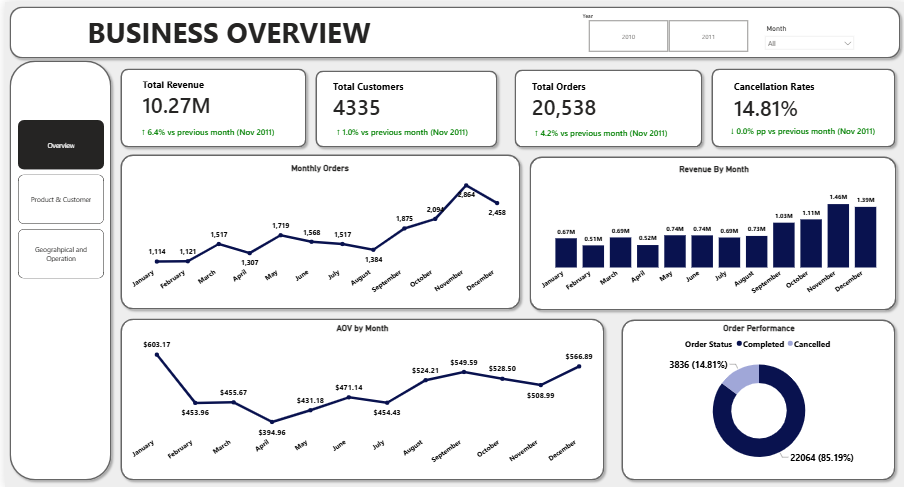

What the dashboard file says about the page in this screenshot:
{"tool":"powerbi","page":{"name":"Overview","canvas":[1800,970],"ordinal":0},"visuals":[{"type":"shape","box":[1404,124,386,176],"z":0},{"type":"shape","box":[1010,126,394,174],"z":1000},{"type":"shape","box":[612,128,382,172],"z":2000},{"type":"shape","box":[0,108,222,858],"z":3000},{"type":"shape","box":[222,124,390,176],"z":4000},{"type":"shape","box":[1040,300,752,326],"z":5000},{"type":"cardVisual","fields":{"Data":["Table1.Total Revenue"]},"box":[246,142,286,100],"z":6000},{"type":"shape","box":[0,0,1800,122],"z":7000},{"type":"cardVisual","fields":{"Data":["Table1.Total Customers"]},"box":[630,142,286,108],"z":8000},{"type":"cardVisual","fields":{"Data":["Table1.Total Orders"]},"box":[1028,140,298,112],"z":9000},{"type":"cardVisual","fields":{"Data":["Table1.Cancellation Rates"]},"box":[1432,142,276,110],"z":10000},{"type":"columnChart","title":"Revenue By Month","fields":{"Category":["Table1.Month Name"],"Y":["Table1.Total Revenue"]},"box":[1066,324,704,280],"z":11000},{"type":"shape","box":[222,624,986,342],"z":12000},{"type":"shape","box":[1224,626,566,340],"z":13000},{"type":"shape","box":[222,296,818,328],"z":14000},{"type":"donutChart","title":"Order Performance","fields":{"Category":["Table1.Order Status"],"Y":["Table1.Order Count"]},"box":[1252,642,512,300],"z":15000},{"type":"lineChart","title":"Monthly Orders","fields":{"Category":["Table1.Month Name"],"Y":["Table1.Total Orders"]},"box":[246,322,768,280],"z":16000},{"type":"lineChart","title":"AOV by Month","fields":{"Category":["Table1.Month Name"],"Y":["Table1.AOV"]},"box":[246,642,938,300],"z":17000},{"type":"pageNavigator","box":[26,168,172,528],"z":18000},{"type":"slicer","fields":{"Values":["Calendar.Year"]},"box":[1134,40,358,66],"z":19000},{"type":"slicer","fields":{"Values":["Calendar.Month"]},"box":[1510,40,198,64],"z":20000},{"type":"cardVisual","fields":{"Data":["Table1.Revenue MoM Display"]},"box":[244,230,348,56],"z":21000},{"type":"cardVisual","fields":{"Data":["Table1.Cancellation Rate Display"]},"box":[1422,228,348,56],"z":22000},{"type":"cardVisual","fields":{"Data":["Table1.Orders MoM Display"]},"box":[1030,232,354,56],"z":23000},{"type":"cardVisual","fields":{"Data":["Table1.Customer MoM Display"]},"box":[634,230,342,56],"z":24000},{"type":"textbox","box":[160,16,816,88],"z":25000}]}

Visuals, with their boxes in screenshot pixels (x1, y1, x2, y2), scaled from the page's 1800x970 canvas onto the 904x487 screenshot:
shape: crop(705, 62, 899, 151)
shape: crop(507, 63, 705, 151)
shape: crop(307, 64, 499, 151)
shape: crop(0, 54, 111, 485)
shape: crop(111, 62, 307, 151)
shape: crop(522, 151, 900, 314)
cardVisual - Table1.Total Revenue: crop(124, 71, 267, 121)
shape: crop(0, 0, 903, 61)
cardVisual - Table1.Total Customers: crop(316, 71, 460, 126)
cardVisual - Table1.Total Orders: crop(516, 70, 666, 127)
cardVisual - Table1.Cancellation Rates: crop(719, 71, 858, 127)
"Revenue By Month" columnChart: crop(535, 163, 889, 303)
shape: crop(111, 313, 607, 485)
shape: crop(615, 314, 899, 485)
shape: crop(111, 149, 522, 313)
"Order Performance" donutChart: crop(629, 322, 886, 473)
"Monthly Orders" lineChart: crop(124, 162, 509, 302)
"AOV by Month" lineChart: crop(124, 322, 595, 473)
pageNavigator: crop(13, 84, 99, 349)
slicer - Calendar.Year: crop(570, 20, 749, 53)
slicer - Calendar.Month: crop(758, 20, 858, 52)
cardVisual - Table1.Revenue MoM Display: crop(123, 115, 297, 144)
cardVisual - Table1.Cancellation Rate Display: crop(714, 114, 889, 143)
cardVisual - Table1.Orders MoM Display: crop(517, 116, 695, 145)
cardVisual - Table1.Customer MoM Display: crop(318, 115, 490, 144)
textbox: crop(80, 8, 490, 52)
